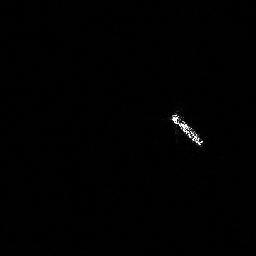ship: (168, 109, 207, 149)
